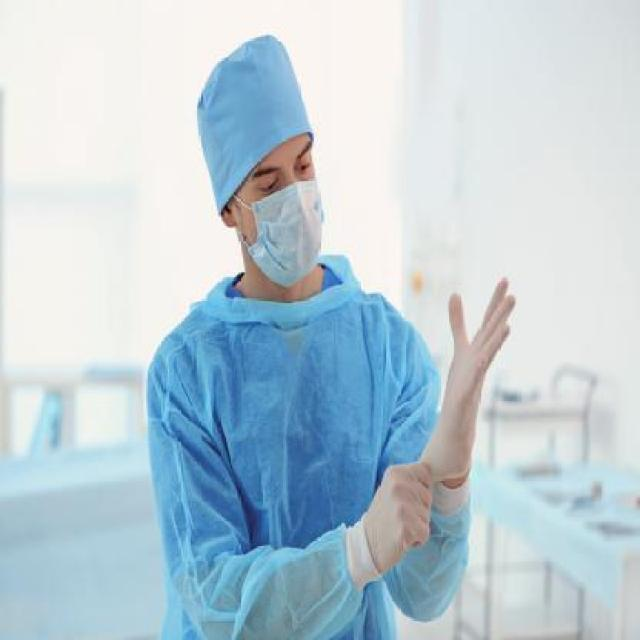face_mask: (224, 141, 334, 277)
hand_glove: (441, 277, 517, 455), (364, 462, 436, 576)
head_nohelmet: (192, 36, 318, 172)
person: (157, 55, 503, 640)
